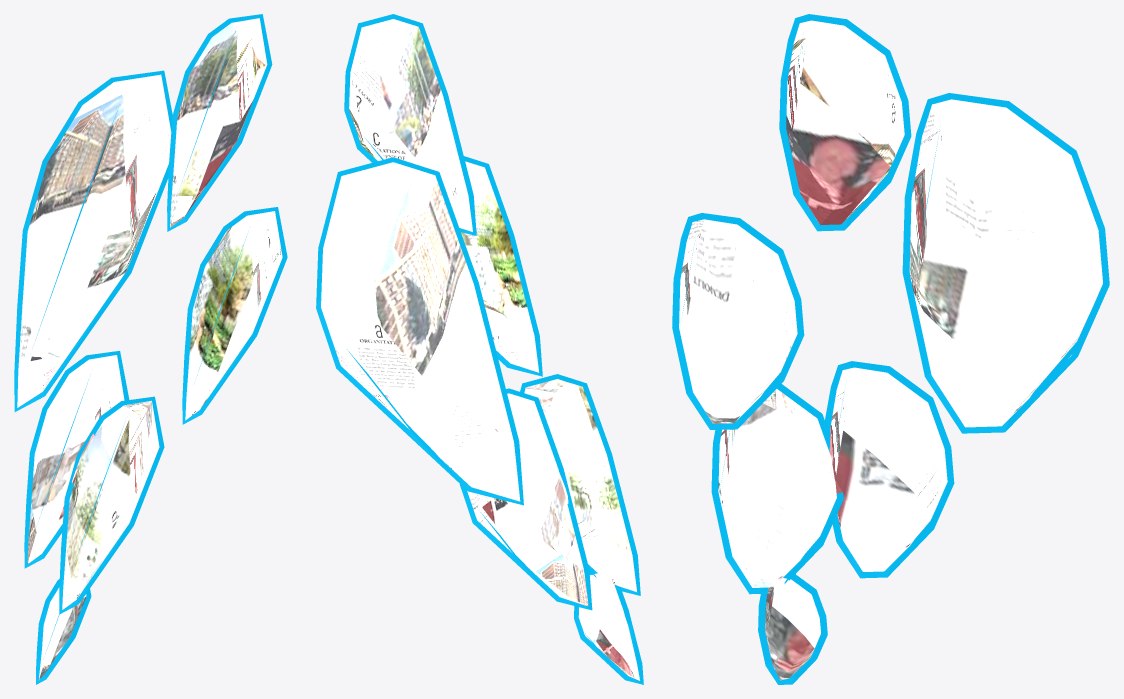
The model's file is More_than_buildings.glb.
The picture shows the model from 3 angles, left to right: view 1: azimuth 30°, elevation 25°; view 2: azimuth 150°, elevation 25°; view 3: azimuth 270°, elevation 25°; orthographic projection. The views are drawn at different scales.
Parts seen in each view (by area): view 1: León Duval.001; view 2: León Duval.001; view 3: León Duval.001.
Part boxes in pixels (bbox=[...]): León Duval.001: bbox=[14, 14, 287, 684]; León Duval.001: bbox=[316, 14, 643, 684]; León Duval.001: bbox=[672, 14, 1109, 684].
Size of the model in its own units: 2.89 by 6.43 by 3.15.
2 materials, 1 textured.
